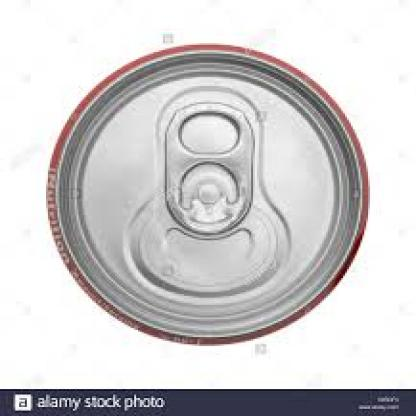Aerosols: (50, 48, 370, 358)
